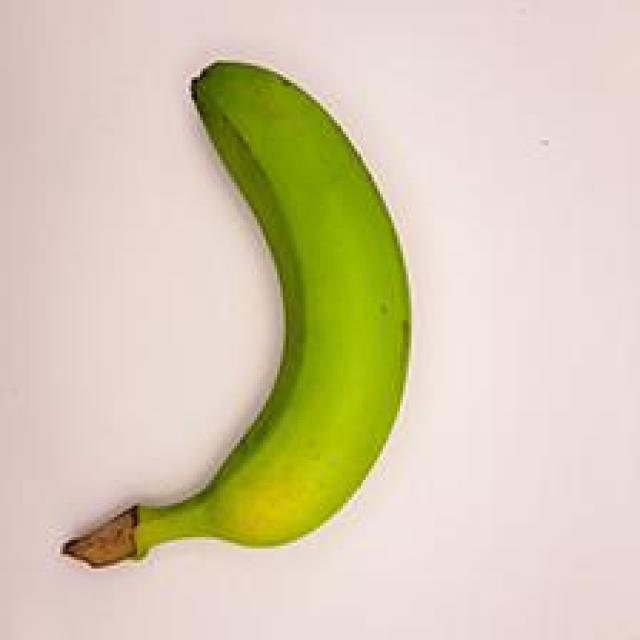Unripe: (44, 42, 434, 585)
